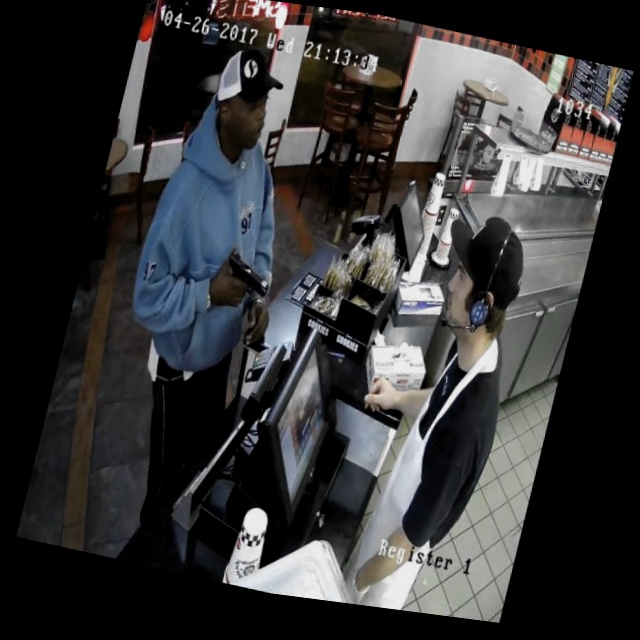gun: (201, 241, 292, 315)
